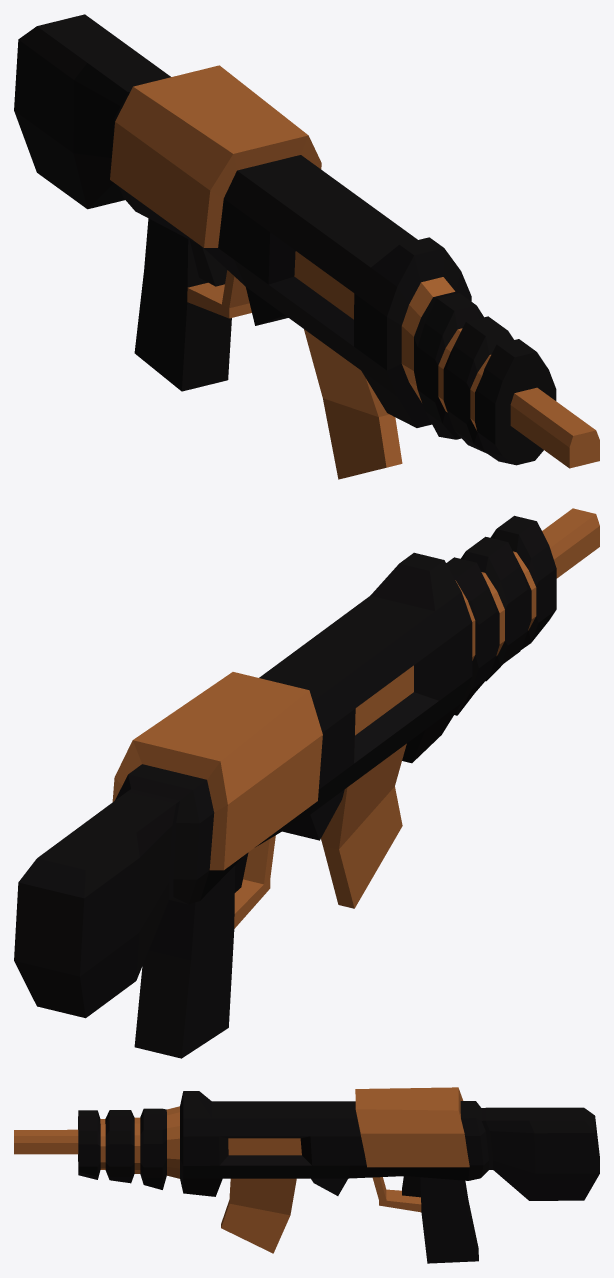
File: Pistol.fbx
The picture shows the model from 3 angles, top to bottom: view 1: azimuth 30°, elevation 25°; view 2: azimuth 150°, elevation 25°; view 3: azimuth 270°, elevation 25°; orthographic projection. The views are drawn at different scales.
Parts seen in each view (by area): view 1: Cube; view 2: Cube; view 3: Cube.
Part boxes in pixels (x1=…): Cube: x1=14, y1=14, x2=599, y2=479; Cube: x1=14, y1=508, x2=599, y2=1058; Cube: x1=14, y1=1087, x2=599, y2=1263.
Size of the model in its own units: 6.92 by 17.27 by 56.39.
